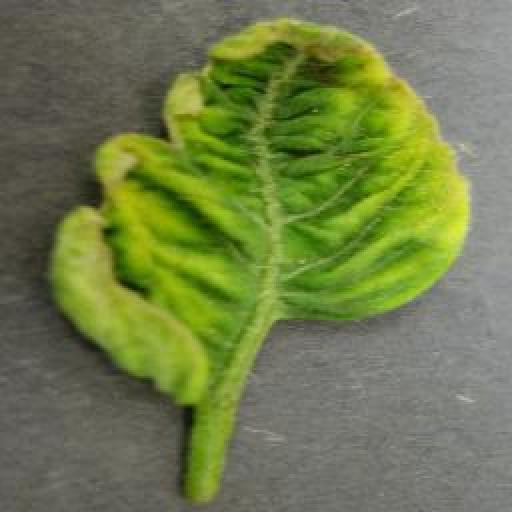Yellow Leaf Curl Virus: (49, 18, 472, 410)
